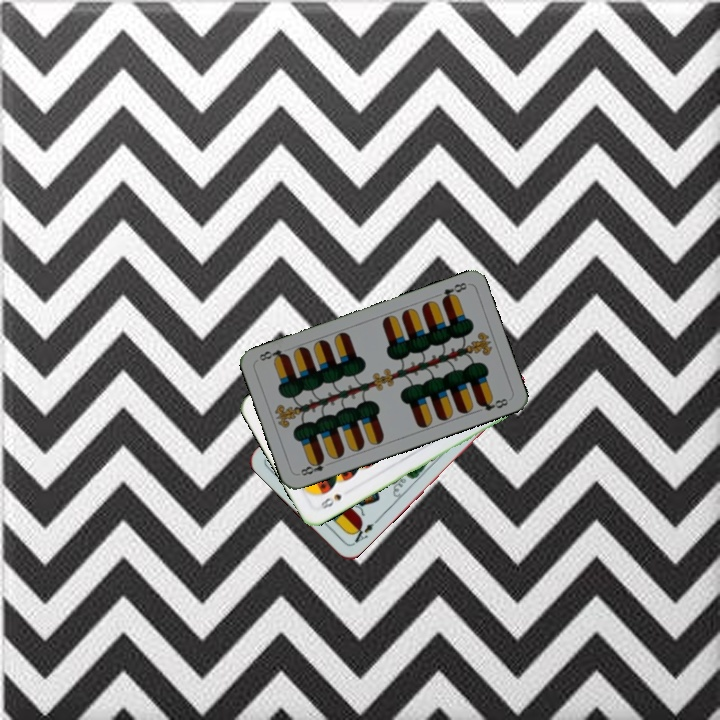E8: (295, 454, 334, 478), (438, 278, 470, 304)
EA: (346, 519, 377, 548)
S8: (315, 490, 344, 513)
